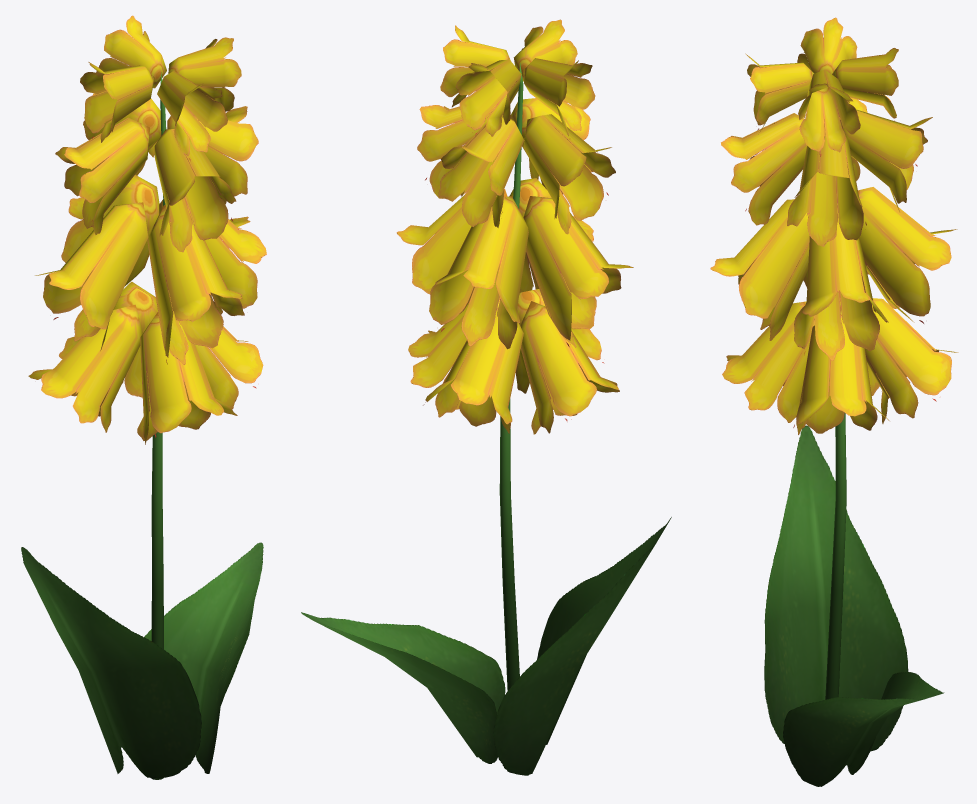
File: nature-flower-4-single.glb
3 renders of one model, left to right at view 1: azimuth 30°, elevation 25°; view 2: azimuth 150°, elevation 25°; view 3: azimuth 270°, elevation 25°, orthographic.
Visible parts, largest first — view 1: Flower_4_Single; view 2: Flower_4_Single; view 3: Flower_4_Single.
Part boxes in pixels (x1,y1,x2,y2): Flower_4_Single: [21, 15, 266, 779]; Flower_4_Single: [301, 19, 671, 775]; Flower_4_Single: [710, 17, 958, 786].
Size of the model in its own units: 1.07 by 2.42 by 0.7729.
2 materials, 2 textured.
